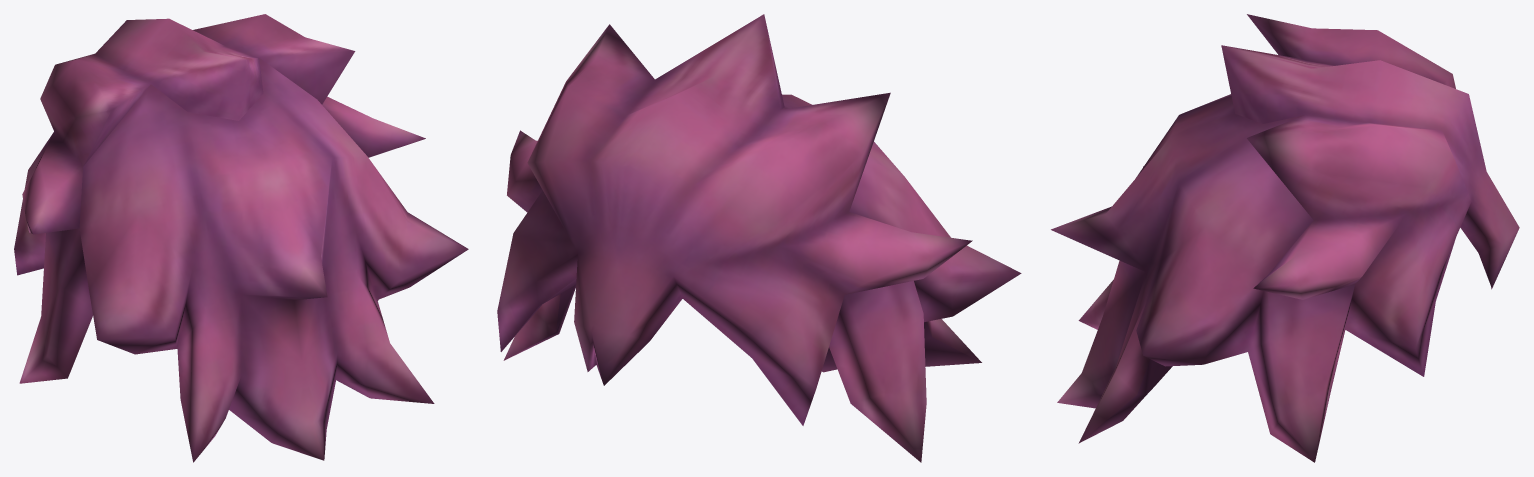
Rendered from superStarWig.glb.
3 views of the same model, side by side, from view 1: azimuth 30°, elevation 25°; view 2: azimuth 150°, elevation 25°; view 3: azimuth 270°, elevation 25° (orthographic). The views are drawn at different scales.
Visible parts, largest first — view 1: superStarWig; view 2: superStarWig; view 3: superStarWig.
Boxes of the visible parts, x1,y1,x2,y2 form: superStarWig: (14, 14, 468, 462); superStarWig: (497, 14, 1021, 462); superStarWig: (1051, 14, 1519, 462).
Bounding box in the file's own units: 0.4967 × 0.4214 × 0.4933.
Materials: 1 (1 with a texture image).
